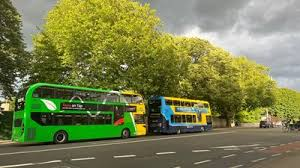bus: (12, 81, 150, 146), (146, 95, 215, 134)
